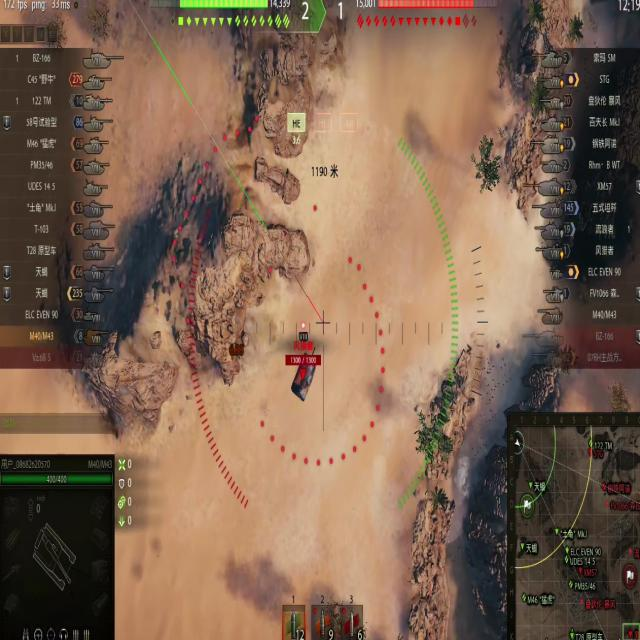tank: (281, 353, 329, 398)
